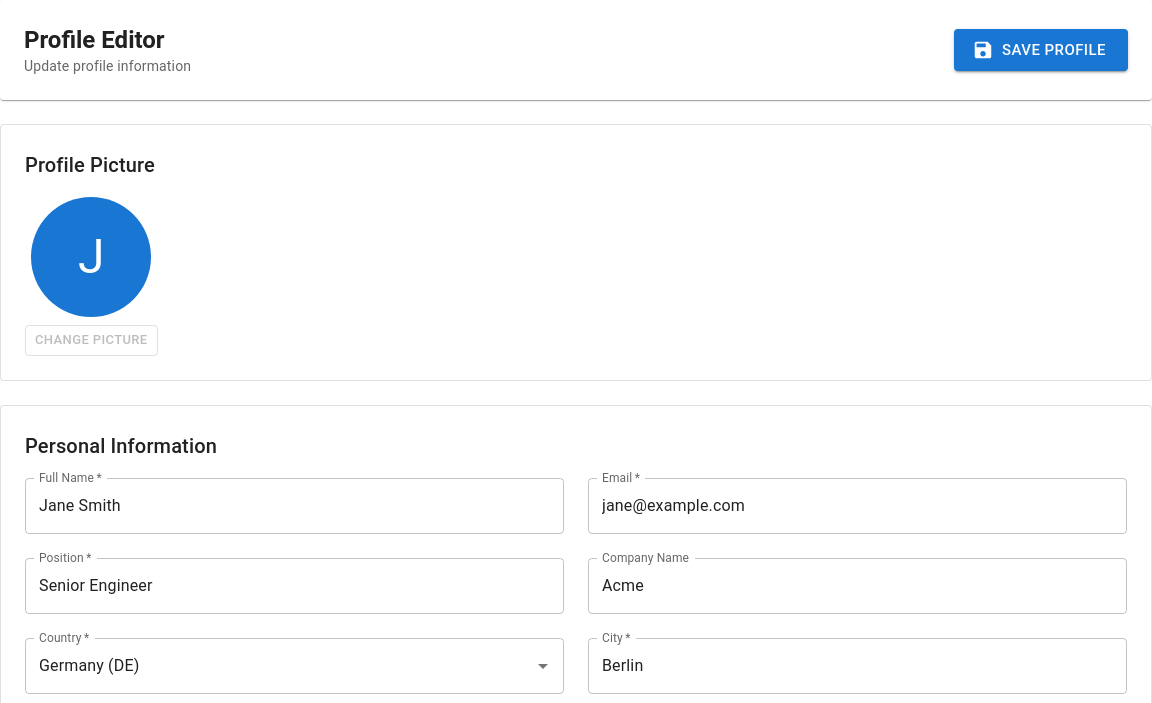
it: EditMentorForm › Given form is loaded, when Save Profile fails, then error message is shown
The image size is (1152, 703).
Expected: the field showing "Jane Smith" is shown, [25,478,564,534]
Click the button "Save Profile" at (1041, 50), box [954,29,1128,71]
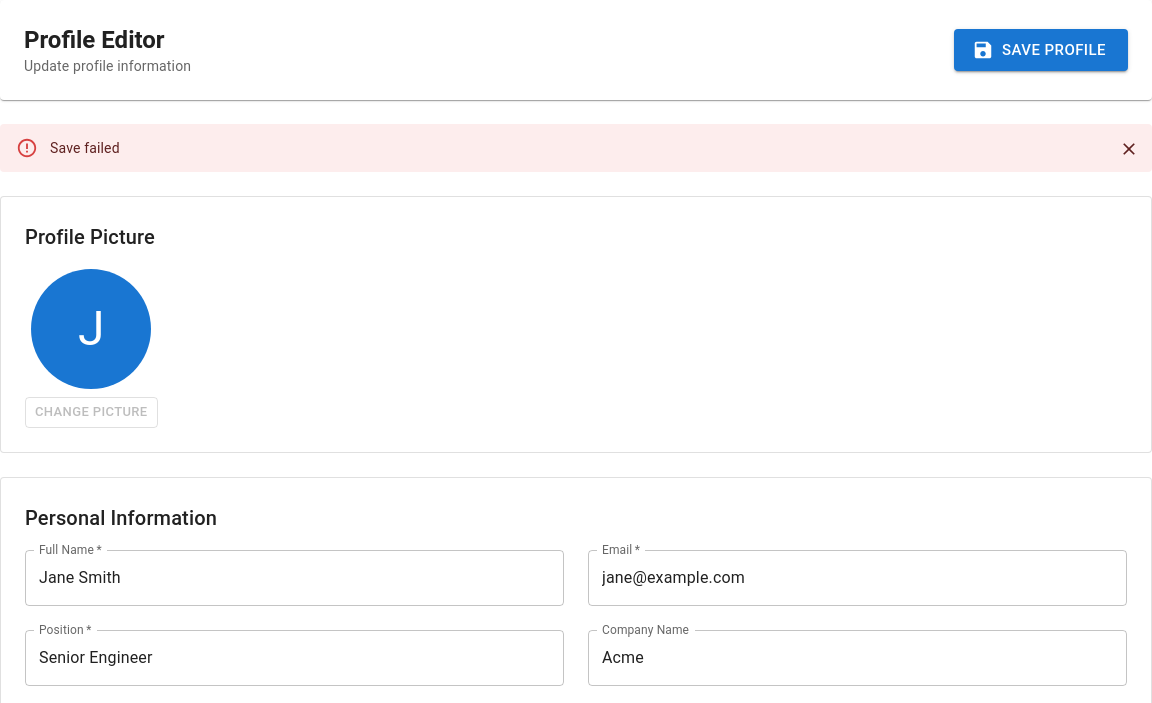
Expected: the text "Save failed" is shown, [50,140,120,156]
